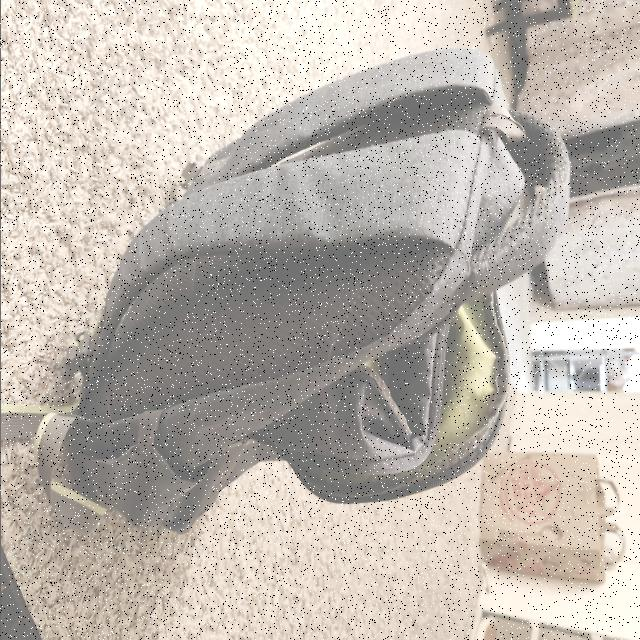bag: (97, 26, 570, 534)
